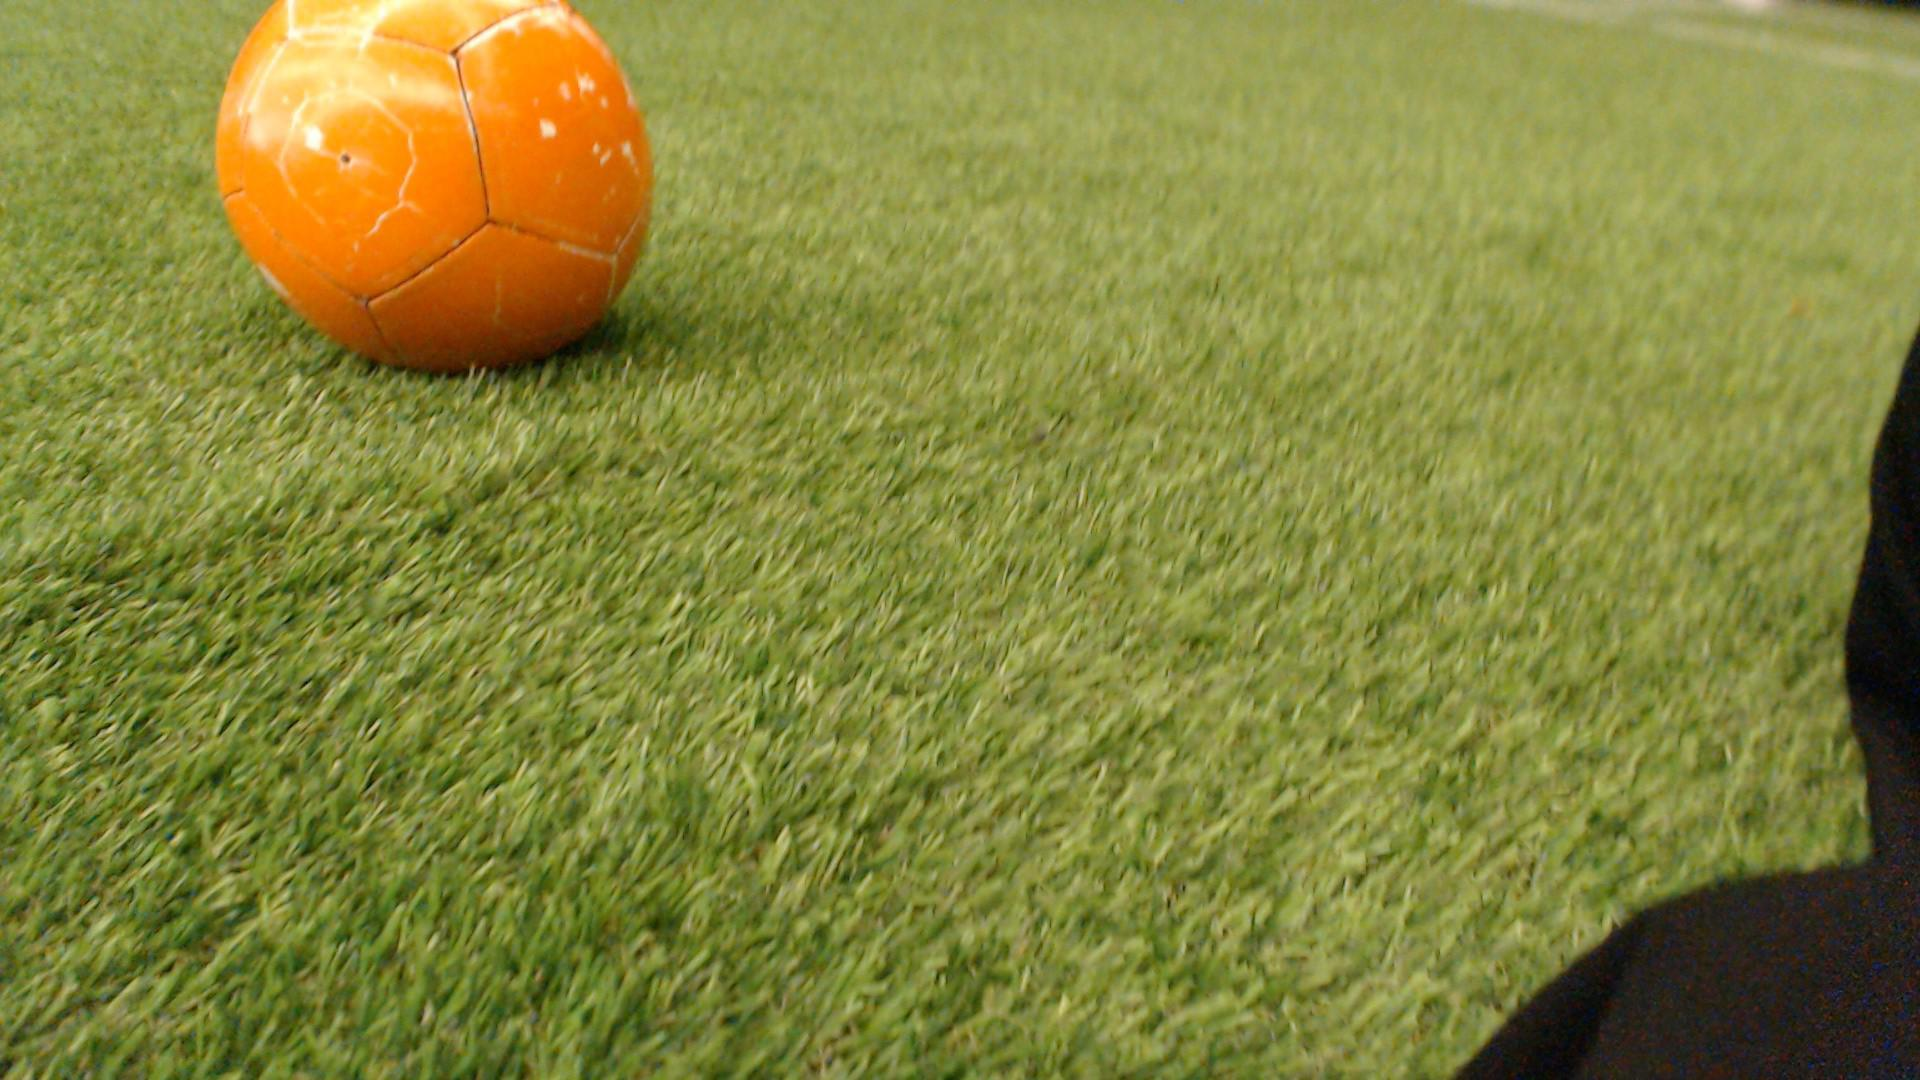bola: (189, 0, 684, 371)
